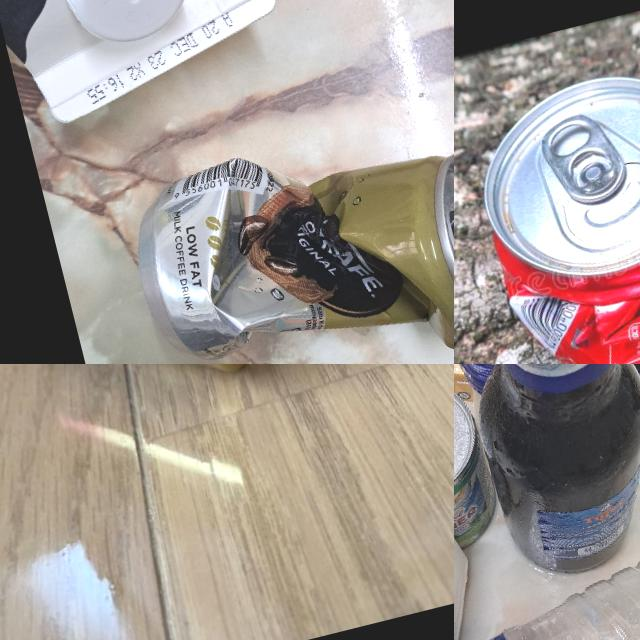aba de lata: (536, 105, 631, 213)
caixinha: (0, 0, 289, 127)
garrafa de vidro: (454, 364, 640, 587)
garrafa plástica: (454, 534, 640, 640), (454, 364, 583, 428)
lata: (113, 92, 454, 364), (460, 54, 640, 364), (454, 367, 513, 572)
tampa plástica: (45, 0, 200, 57)
